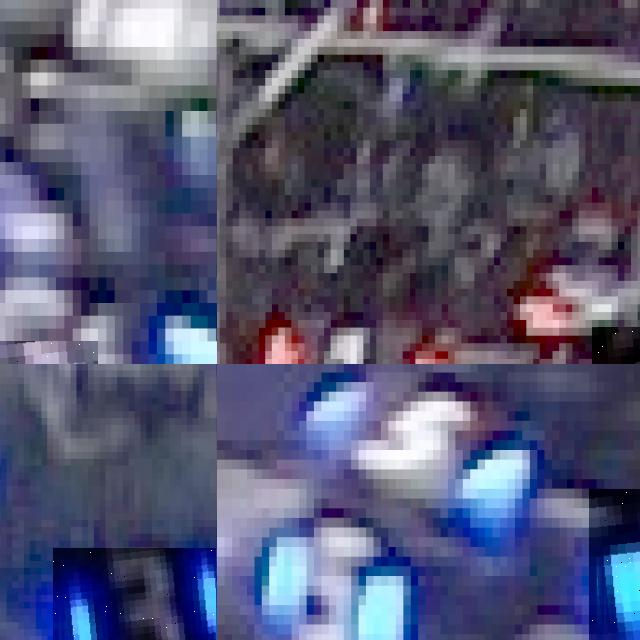B3: (53, 547, 216, 640)
B5: (254, 508, 410, 640), (589, 489, 640, 640)
R1: (258, 312, 448, 364)
